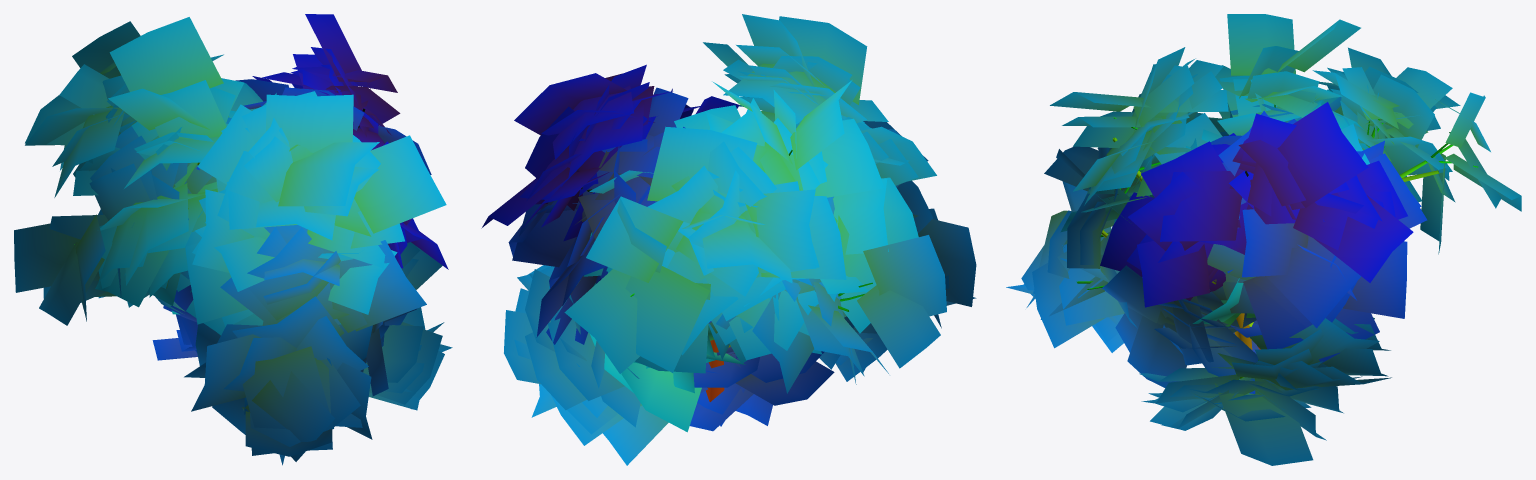
Rendered from SM_Bush_Hawthorn_B_LOD1.fbx.
The picture shows the model from 3 angles, left to right: view 1: azimuth 30°, elevation 25°; view 2: azimuth 150°, elevation 25°; view 3: azimuth 270°, elevation 25°; orthographic projection. The views are drawn at different scales.
Visible parts, largest first — view 1: SM_Bush_Hawthorn_B_LOD1; view 2: SM_Bush_Hawthorn_B_LOD1; view 3: SM_Bush_Hawthorn_B_LOD1.
Boxes of the visible parts, <box> form: SM_Bush_Hawthorn_B_LOD1: <box>14,14,452,465</box>; SM_Bush_Hawthorn_B_LOD1: <box>481,14,976,465</box>; SM_Bush_Hawthorn_B_LOD1: <box>1006,14,1521,465</box>.
Size of the model in its own units: 1.52 by 1.52 by 1.87.
